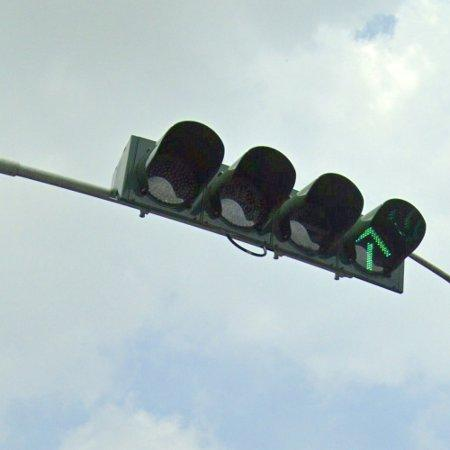traffic lights: (113, 117, 429, 300)
